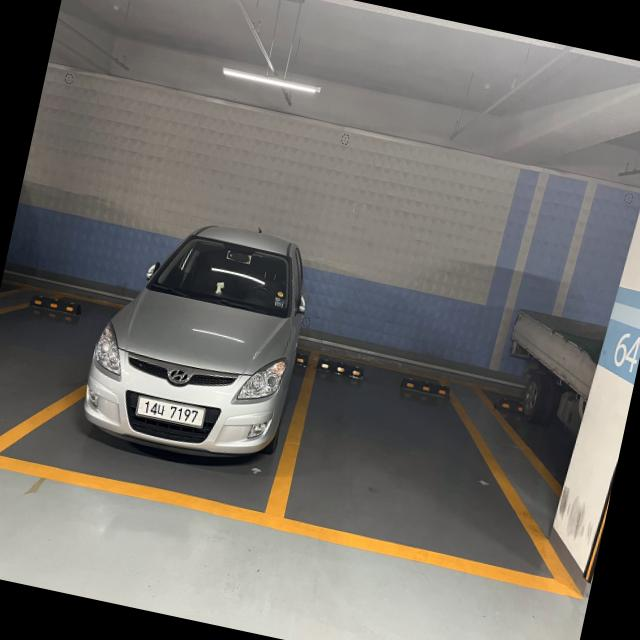car: (62, 186, 336, 487)
free: (260, 346, 583, 595)
